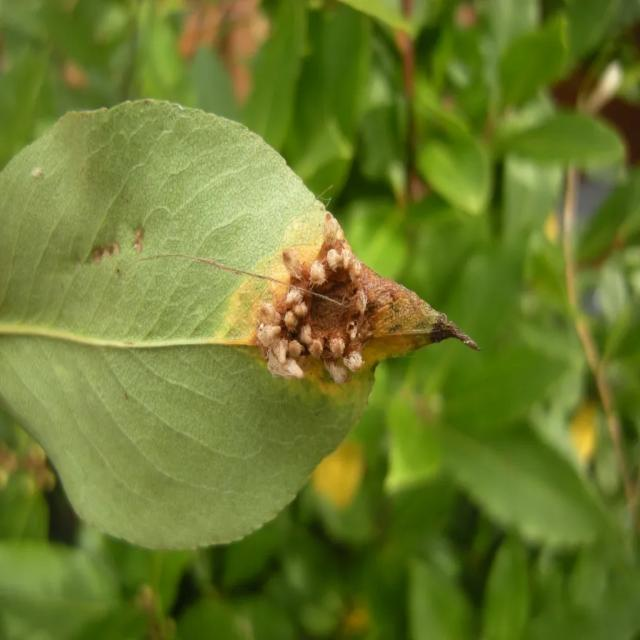Gymnosporangium_Rusts: (1, 97, 481, 551)
